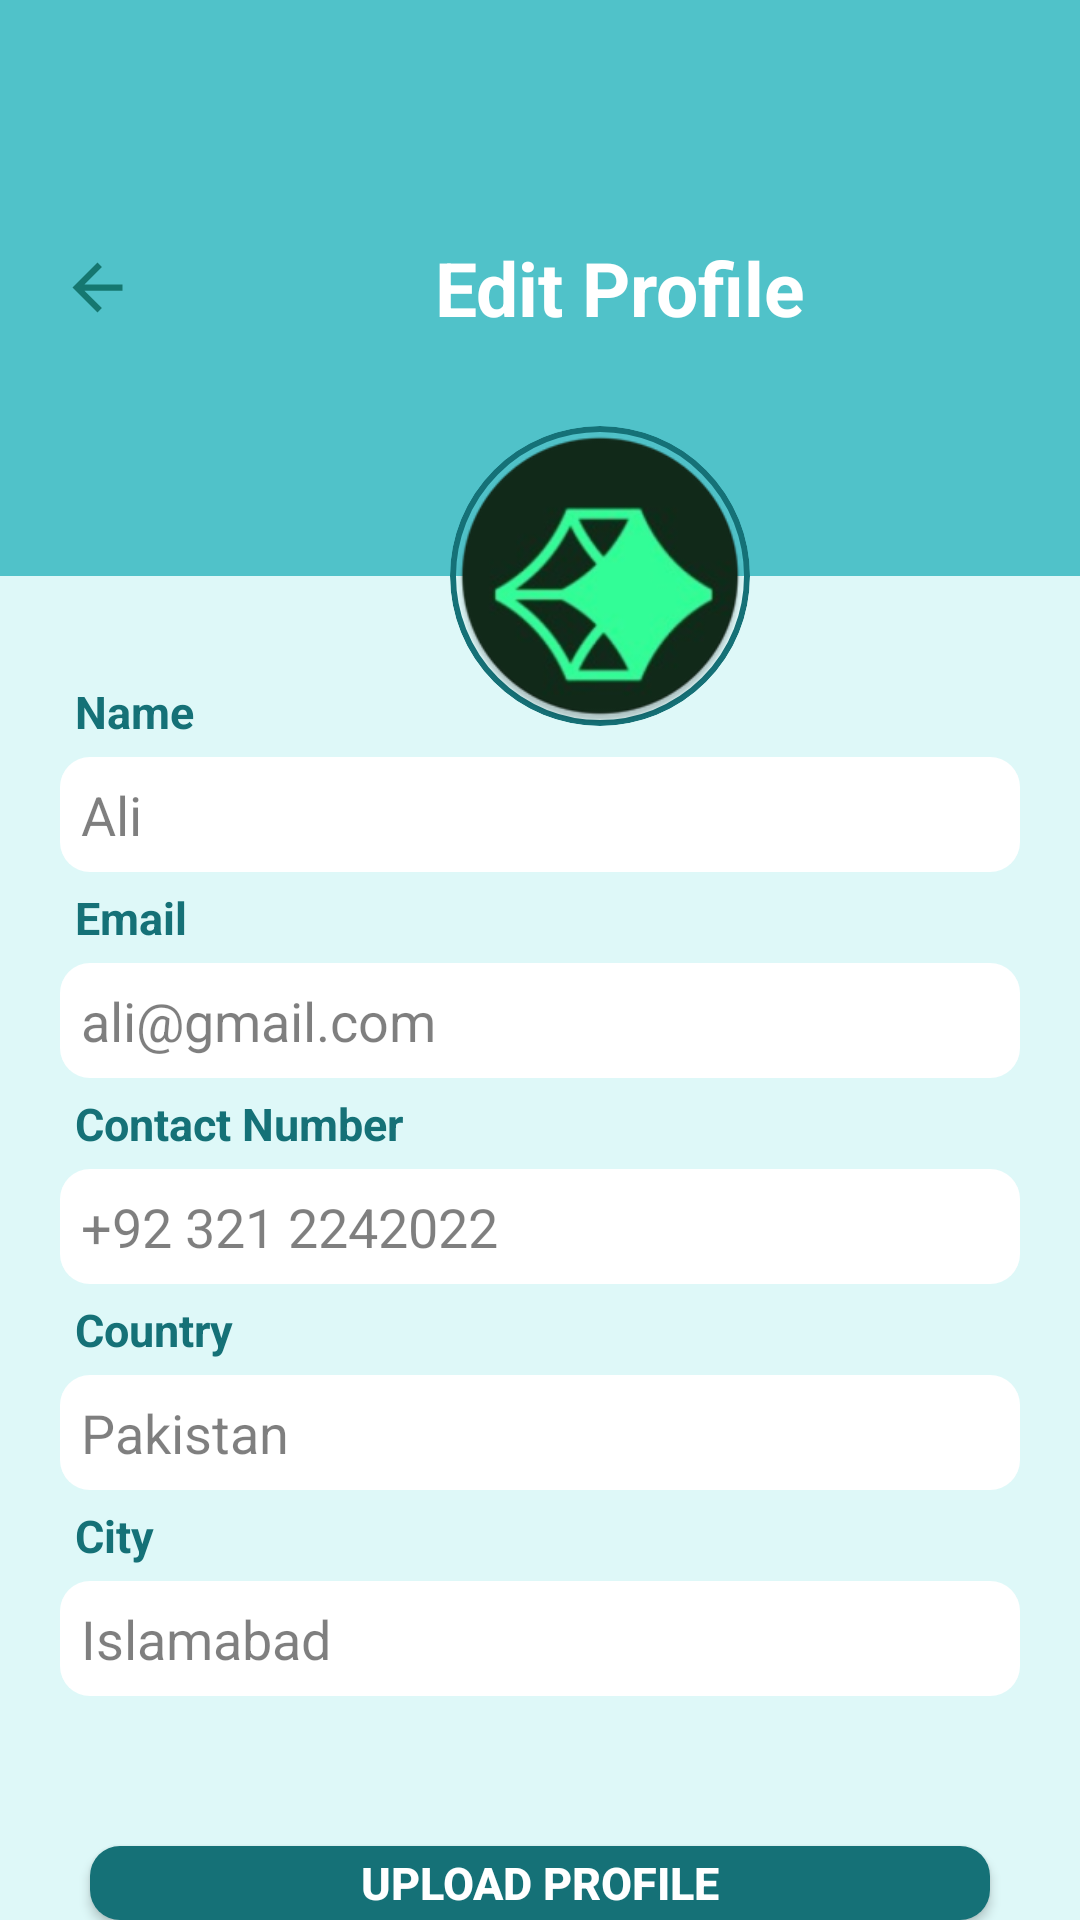

Icons on this 1080px×1920px Android screen, each with its box as [x1,y1,x2,y2]:
arrow back: [73,263,123,312]
